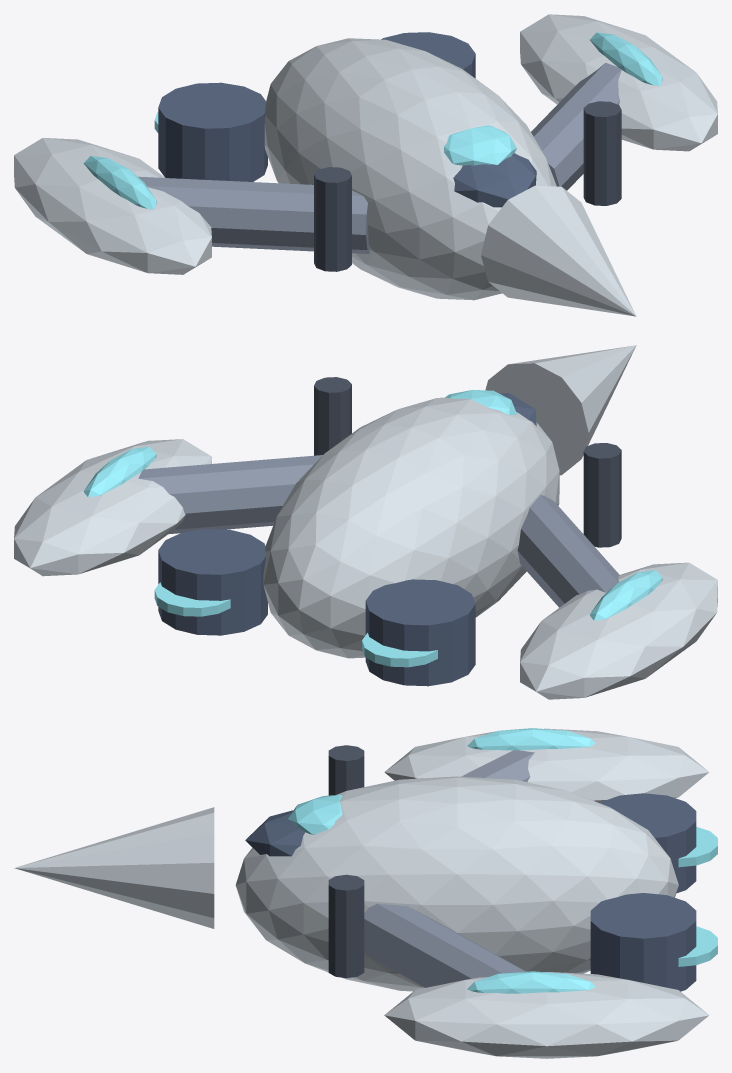
Rendered from npc_saimon.glb.
3 renders of one model, top to bottom at view 1: azimuth 30°, elevation 25°; view 2: azimuth 150°, elevation 25°; view 3: azimuth 270°, elevation 25°, orthographic.
Visible parts, largest first — view 1: hull, wing_armor_-1, wing_armor_1, forward_stinger, engine_-1, wingframe_-1, wingframe_1, weapon_1, weapon_-1, sensory_cockpit, central_eye, engine_1 (+2 smaller); view 2: hull, wing_armor_-1, wing_armor_1, engine_-1, engine_1, forward_stinger, wingframe_1, wingframe_-1, weapon_-1, weapon_1, wing_energy_-1, wing_energy_1 (+3 smaller); view 3: hull, wing_armor_1, forward_stinger, wing_armor_-1, engine_1, wingframe_1, engine_-1, weapon_1, wing_energy_1, wing_energy_-1, sensory_cockpit, weapon_-1 (+4 smaller).
Part boxes in pixels (left/top/right/bottom): hull: left=264, top=38, right=556, bottom=300; wing_armor_-1: left=14, top=138, right=211, bottom=274; wing_armor_1: left=520, top=14, right=717, bottom=151; forward_stinger: left=481, top=185, right=636, bottom=316; engine_-1: left=158, top=82, right=267, bottom=181; wingframe_-1: left=138, top=176, right=369, bottom=253; wingframe_1: left=531, top=63, right=621, bottom=190; weapon_1: left=583, top=101, right=621, bottom=205; weapon_-1: left=314, top=167, right=351, bottom=271; sensory_cockpit: left=453, top=153, right=536, bottom=207; central_eye: left=444, top=125, right=516, bottom=165; engine_1: left=381, top=32, right=475, bottom=78; hull: left=263, top=397, right=559, bottom=658; wing_armor_-1: left=520, top=562, right=717, bottom=699; wing_armor_1: left=14, top=439, right=211, bottom=576; engine_-1: left=365, top=579, right=475, bottom=686; engine_1: left=158, top=528, right=267, bottom=635; forward_stinger: left=485, top=345, right=636, bottom=475; wingframe_1: left=138, top=455, right=322, bottom=534; wingframe_-1: left=517, top=495, right=619, bottom=607; weapon_-1: left=583, top=443, right=621, bottom=547; weapon_1: left=314, top=377, right=351, bottom=455; wing_energy_-1: left=589, top=570, right=662, bottom=620; wing_energy_1: left=83, top=446, right=156, bottom=497; hull: left=235, top=776, right=678, bottom=991; wing_armor_1: left=384, top=972, right=709, bottom=1058; forward_stinger: left=14, top=807, right=214, bottom=928; wing_armor_-1: left=384, top=728, right=709, bottom=802; engine_1: left=590, top=893, right=696, bottom=991; wingframe_1: left=364, top=903, right=525, bottom=987; engine_-1: left=600, top=793, right=696, bottom=893; weapon_1: left=328, top=874, right=364, bottom=978; wing_energy_1: left=467, top=971, right=595, bottom=993; wing_energy_-1: left=467, top=728, right=595, bottom=750; sensory_cockpit: left=245, top=810, right=305, bottom=856; weapon_-1: left=328, top=745, right=364, bottom=795.
Size of the model in its own units: 3.06 by 0.92 by 2.99.
